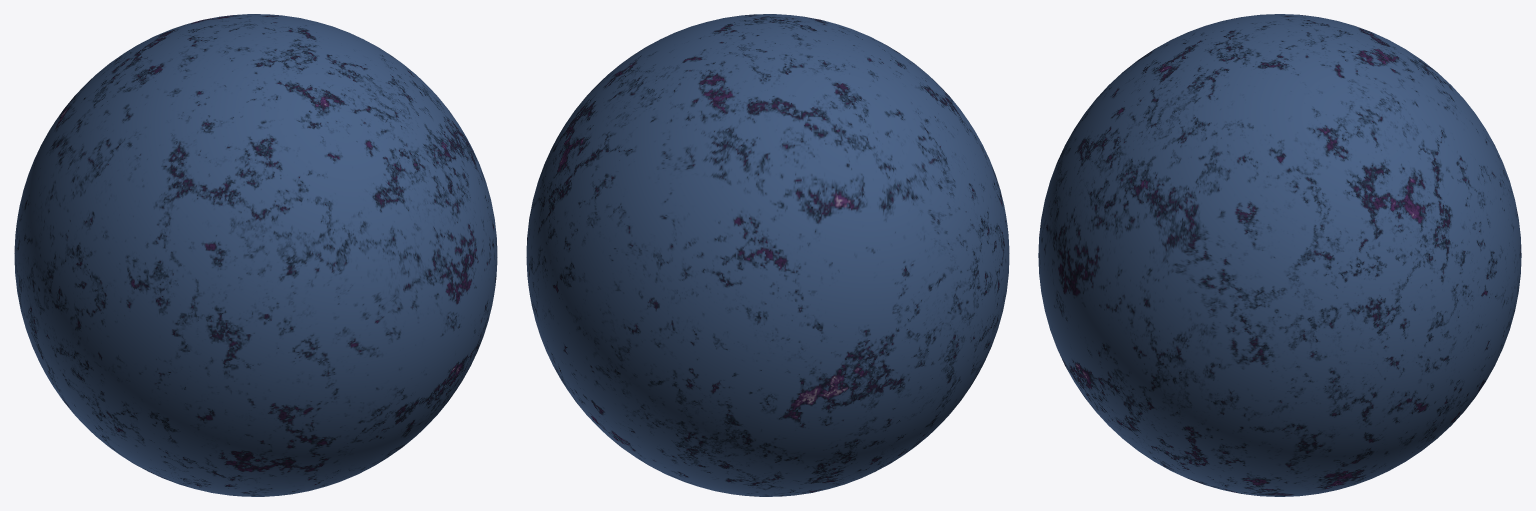
File: pol.glb
3 views of the same model, side by side, from view 1: azimuth 30°, elevation 25°; view 2: azimuth 150°, elevation 25°; view 3: azimuth 270°, elevation 25° (orthographic).
Visible parts, largest first — view 1: Planet; view 2: Planet; view 3: Planet.
Boxes of the visible parts, box(x1,y1,x2,y2) form: Planet: box(14, 14, 497, 496); Planet: box(526, 14, 1009, 496); Planet: box(1038, 14, 1521, 496).
Size of the model in its own units: 1.08 by 1.08 by 1.08.
Materials: 1 (1 with a texture image).
